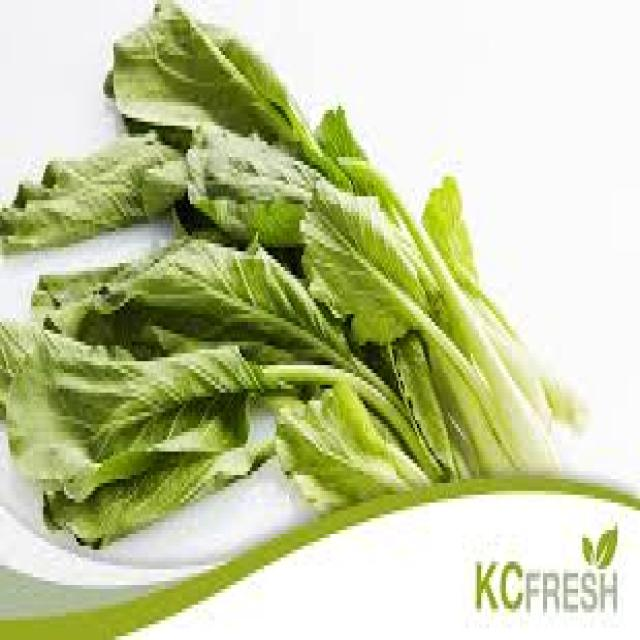bokchoy: (9, 8, 602, 470)
